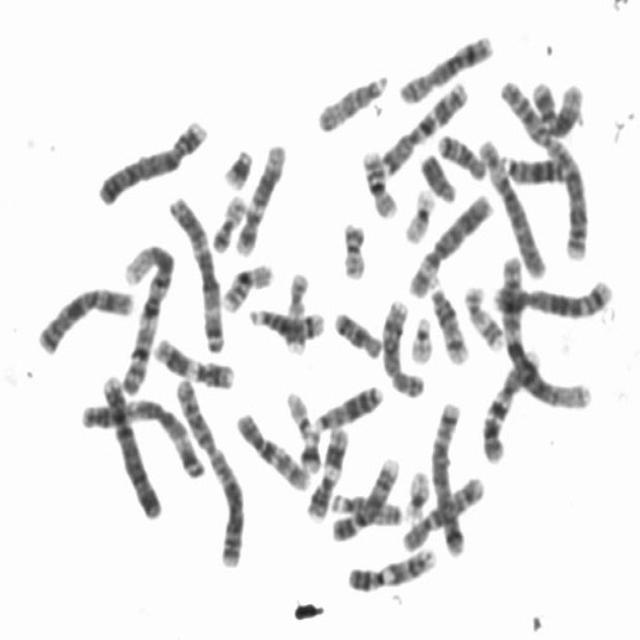A1: (493, 248, 593, 412), (115, 233, 178, 396)
A2: (494, 71, 592, 263), (169, 370, 248, 569)
A3: (75, 389, 208, 480), (160, 186, 227, 355)
B4: (90, 111, 210, 207), (94, 366, 164, 521)
B5: (425, 392, 469, 557), (486, 269, 618, 320)
C10: (395, 468, 487, 553), (229, 403, 313, 494)
C11: (147, 328, 238, 391), (300, 417, 352, 522)
C12: (230, 132, 288, 256), (525, 70, 586, 138)
C6: (472, 129, 548, 280), (402, 183, 495, 299)
C7: (373, 71, 470, 176), (474, 340, 544, 465)
C8: (392, 25, 496, 105), (375, 290, 427, 400)
C9: (324, 448, 402, 542), (340, 537, 439, 594)
D13: (308, 376, 385, 433), (496, 146, 569, 186)
D14: (424, 276, 471, 364), (242, 299, 327, 341)
D15: (310, 63, 391, 134), (325, 484, 406, 526)
E16: (216, 253, 276, 314), (356, 140, 400, 220)
E17: (458, 277, 506, 352), (278, 262, 312, 356)
E18: (327, 301, 384, 361), (431, 124, 488, 181)
F19: (397, 178, 438, 246), (398, 460, 433, 522)
F20: (205, 185, 249, 253), (335, 212, 370, 282)
G21: (216, 139, 256, 191), (295, 425, 324, 475)
G22: (279, 381, 316, 440), (404, 306, 436, 365)
X: (30, 277, 136, 356)
Y: (414, 144, 459, 203)
